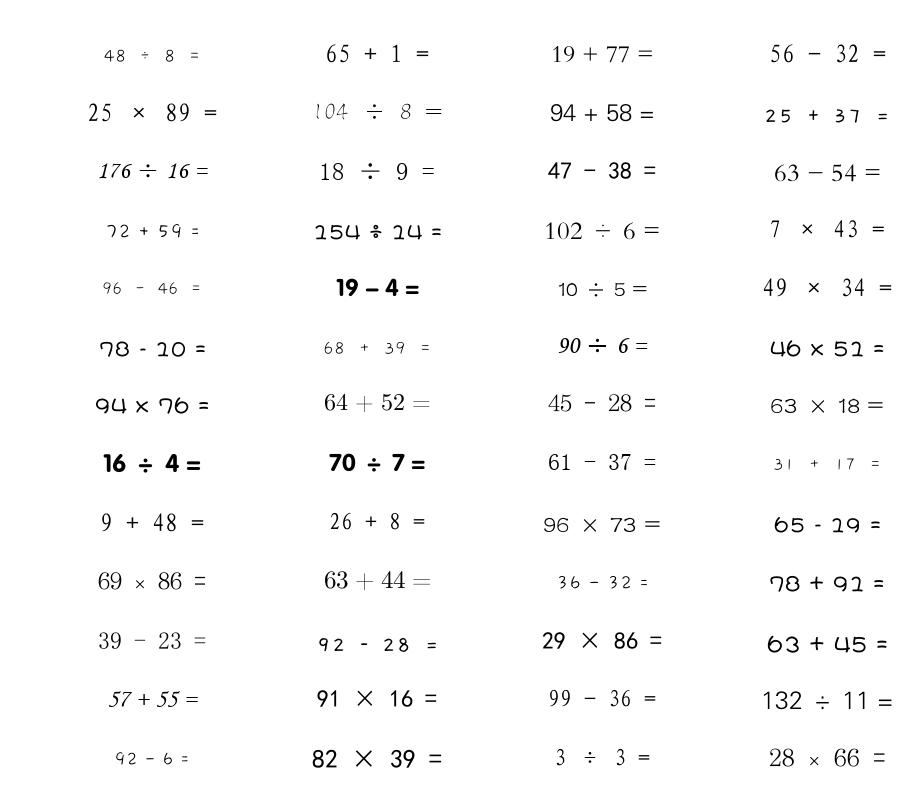MQ: (761, 691, 893, 710), (87, 103, 217, 122), (762, 278, 892, 297), (312, 749, 442, 768), (312, 103, 443, 120), (769, 44, 886, 63), (769, 748, 886, 767), (767, 635, 888, 653), (324, 571, 431, 591), (319, 162, 435, 180), (544, 222, 660, 240), (769, 220, 885, 238), (313, 224, 442, 240), (542, 632, 662, 649), (317, 690, 437, 707), (324, 393, 431, 412), (325, 44, 429, 63), (100, 513, 204, 532), (769, 575, 885, 592), (103, 453, 201, 473), (770, 340, 885, 357), (95, 397, 210, 414), (548, 394, 656, 412), (98, 572, 206, 590), (548, 689, 656, 707), (774, 164, 881, 182), (550, 104, 655, 122), (316, 637, 439, 652), (548, 162, 656, 179), (98, 632, 206, 649), (329, 453, 425, 472), (774, 516, 881, 533), (97, 163, 208, 179), (543, 517, 661, 532), (764, 109, 890, 123), (551, 46, 654, 63), (548, 454, 656, 470), (329, 512, 425, 530), (554, 748, 650, 766), (99, 341, 206, 357), (770, 398, 884, 413), (336, 278, 419, 297), (323, 341, 432, 355), (105, 223, 200, 239), (107, 691, 198, 707), (773, 458, 882, 471), (556, 575, 649, 590), (557, 338, 648, 353), (104, 49, 201, 63), (558, 282, 647, 297), (102, 282, 202, 295), (114, 752, 190, 766)
